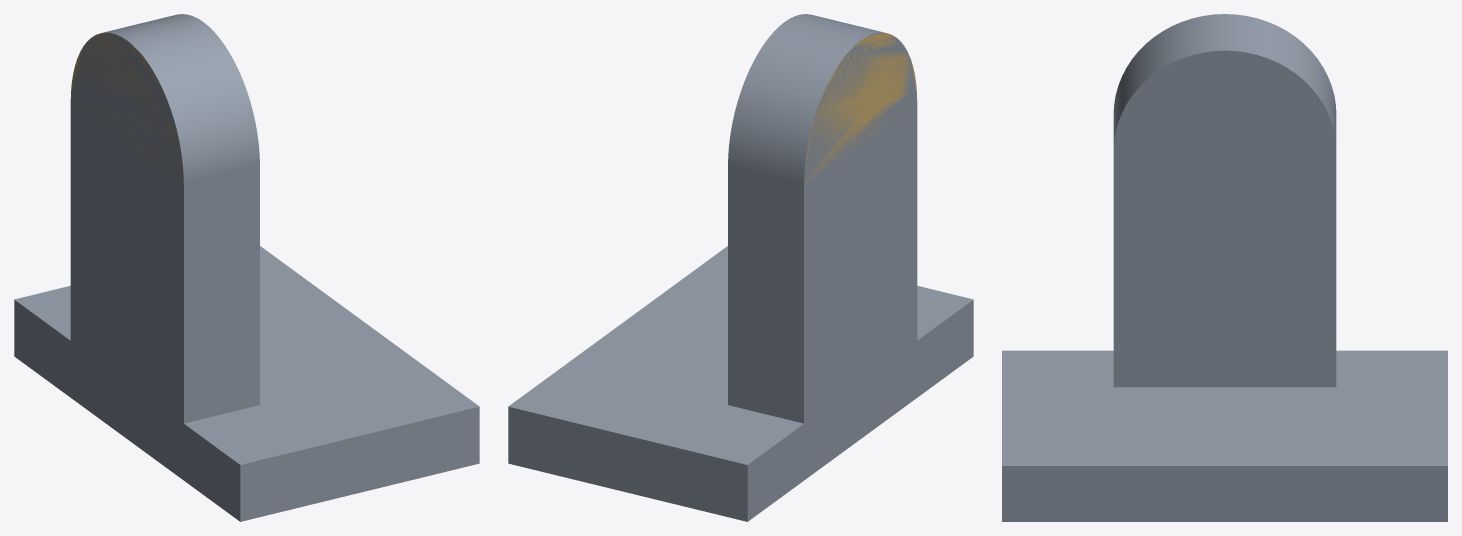
File: step_06.glb
3 views of the same model, side by side, from view 1: azimuth 30°, elevation 25°; view 2: azimuth 150°, elevation 25°; view 3: azimuth 270°, elevation 25° (orthographic).
Parts seen in each view (by area): view 1: part__bracket (right), added__bracket (right); view 2: part__bracket (right), added__bracket (right); view 3: part__bracket (right).
Part boxes in pixels (x1=…): part__bracket (right): x1=14, y1=14, x2=479, y2=521; added__bracket (right): x1=71, y1=33, x2=183, y2=183; part__bracket (right): x1=508, y1=14, x2=973, y2=521; added__bracket (right): x1=804, y1=33, x2=917, y2=183; part__bracket (right): x1=1002, y1=14, x2=1447, y2=521.
Bounding box in the file's own units: 44 × 70 × 72.
